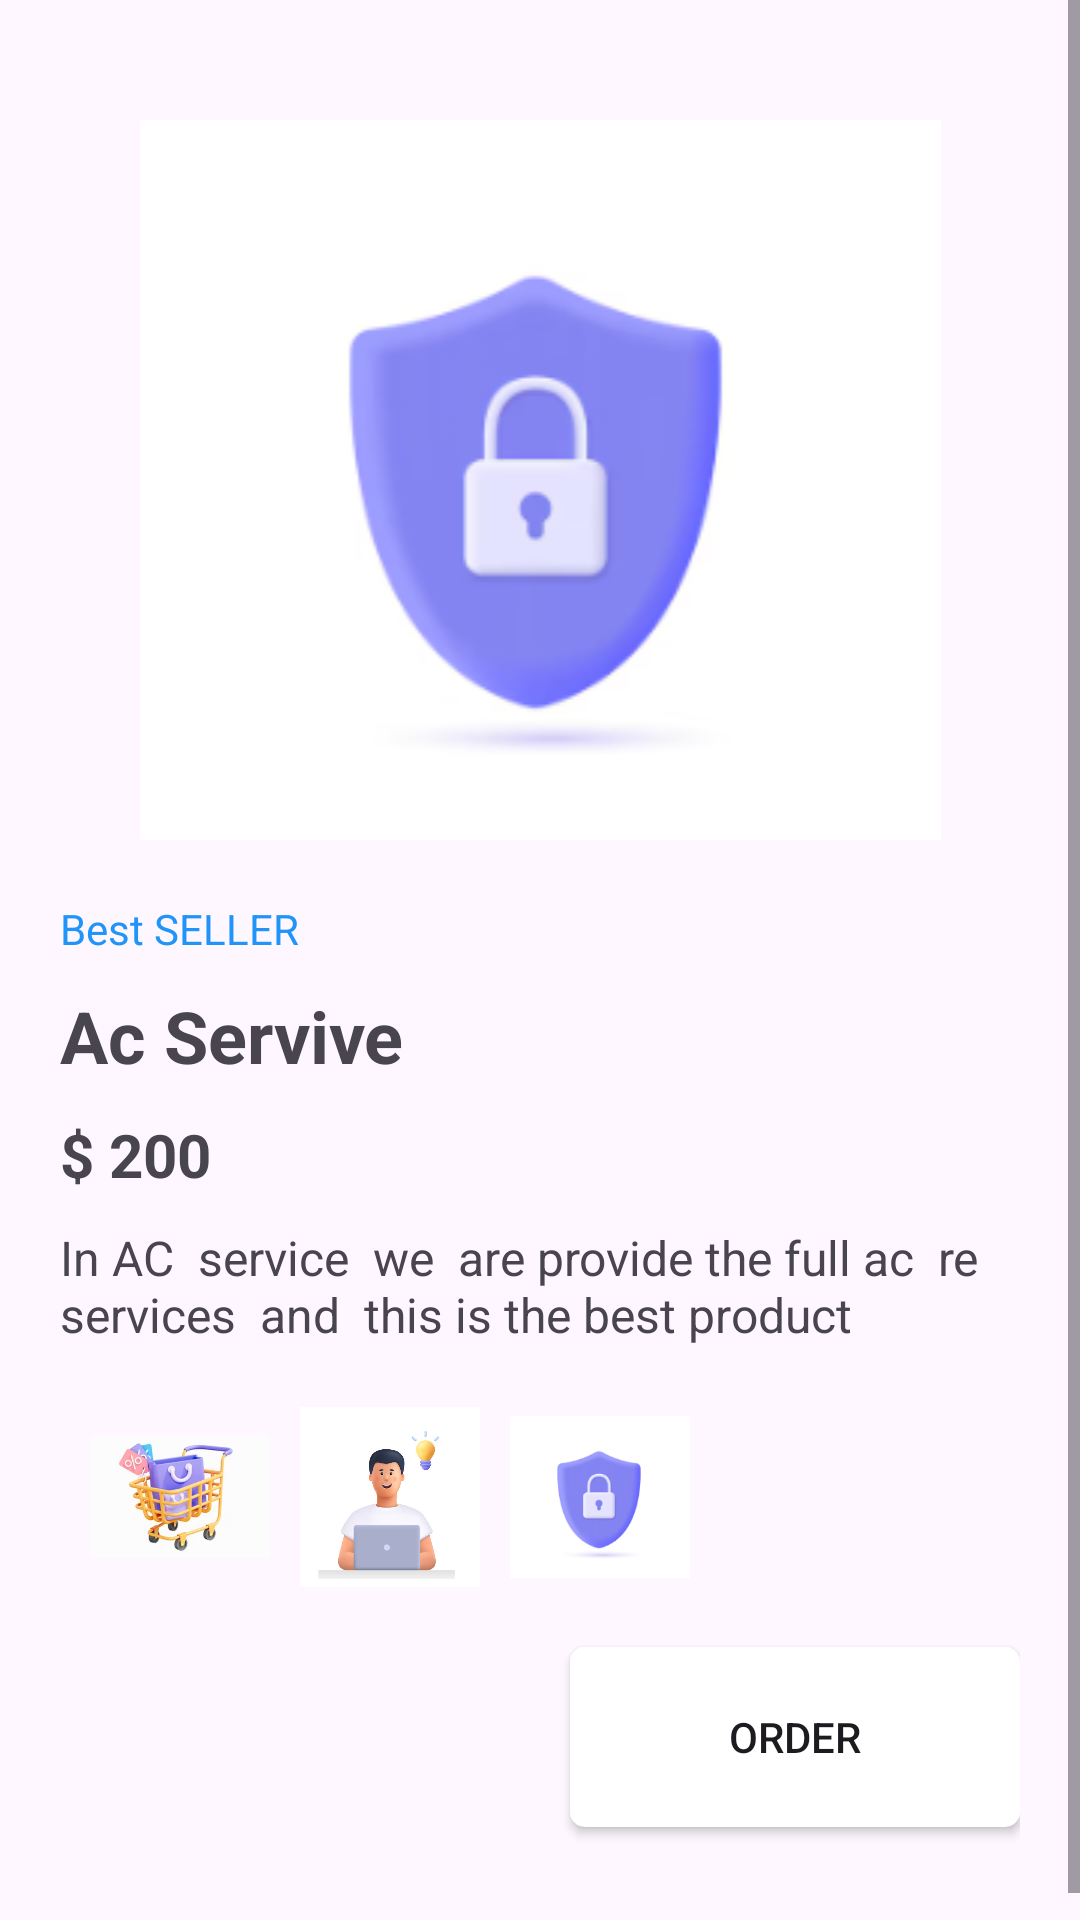

Where icons sit on this 1080 × 1920 app screen, as (x1, y1, x2, y2):
laptop: (319, 1431, 455, 1574)
